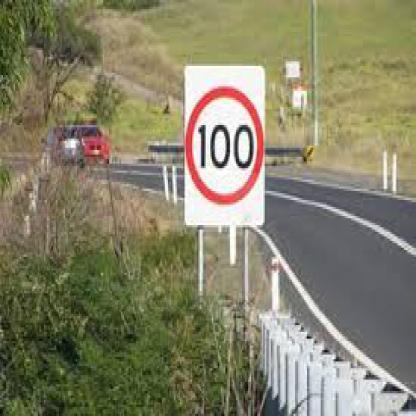Speed Limit 100: (187, 87, 264, 204)
